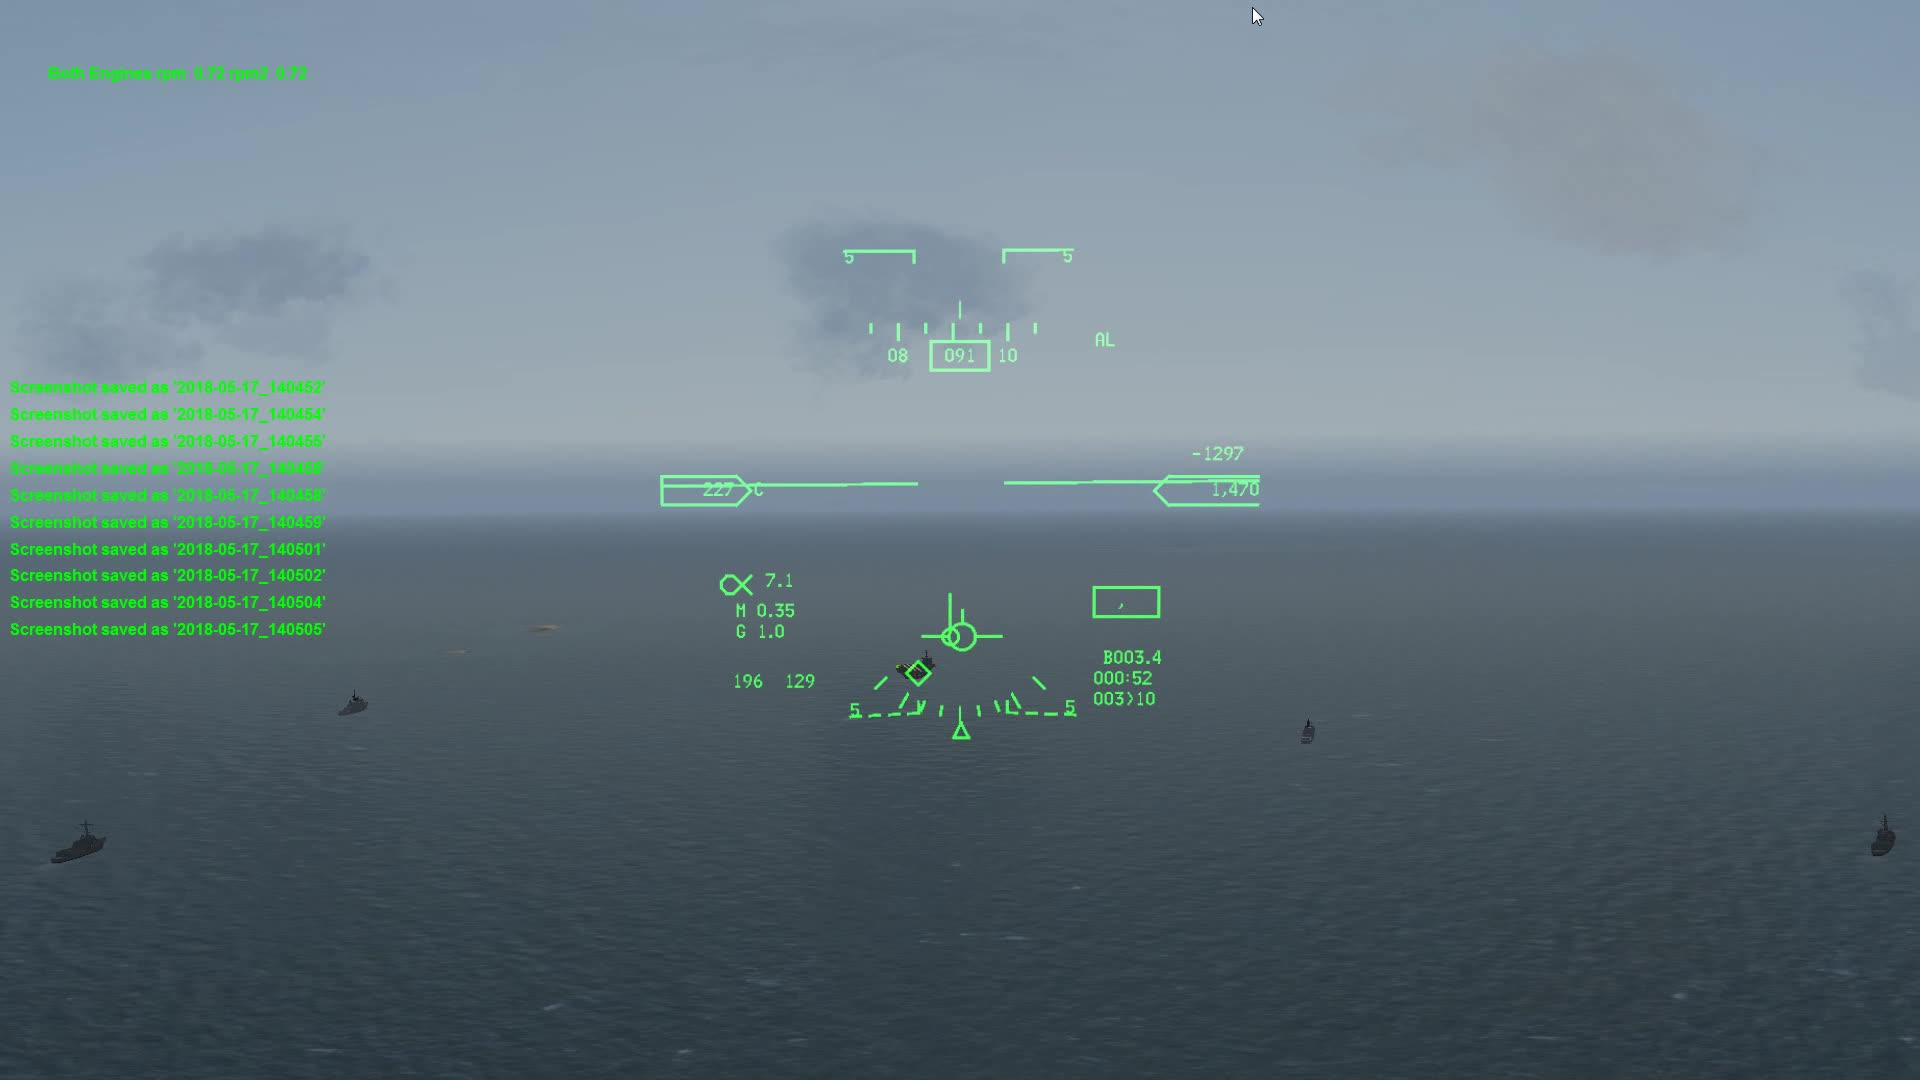speed vector: (916, 585, 1015, 658)
